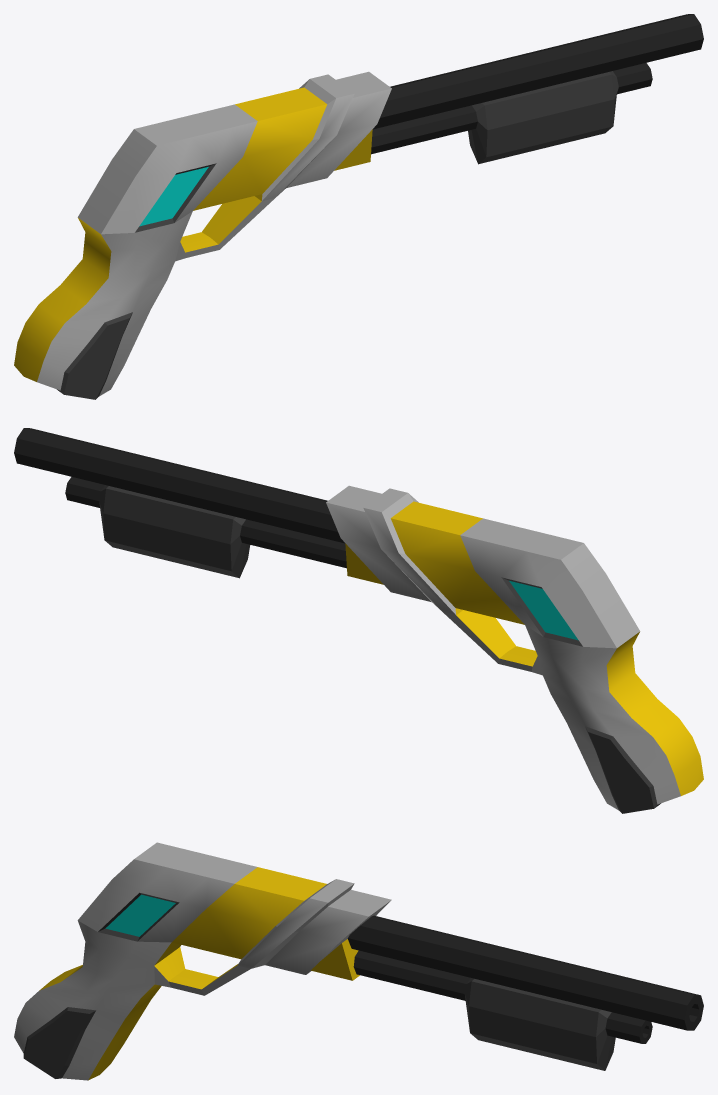
Rendered from Blaster8.fbx.
The picture shows the model from 3 angles, top to bottom: view 1: azimuth 30°, elevation 25°; view 2: azimuth 150°, elevation 25°; view 3: azimuth 330°, elevation 25°; orthographic projection.
Parts seen in each view (by area): view 1: pCube12, pPipe11, pPipe12; view 2: pCube12, pPipe11, pPipe12; view 3: pCube12, pPipe11, pPipe12.
Part boxes in pixels (box(x1,y1,x2,y2)): pCube12: box(14, 71, 391, 399); pPipe11: box(372, 14, 703, 129); pPipe12: box(371, 63, 652, 164); pCube12: box(326, 485, 703, 813); pPipe11: box(14, 428, 345, 543); pPipe12: box(65, 477, 346, 578); pCube12: box(14, 842, 391, 1080); pPipe11: box(347, 915, 703, 1030); pPipe12: box(353, 950, 652, 1070).
Bounding box in the file's own units: 5.54 × 1.9 × 0.6067.
